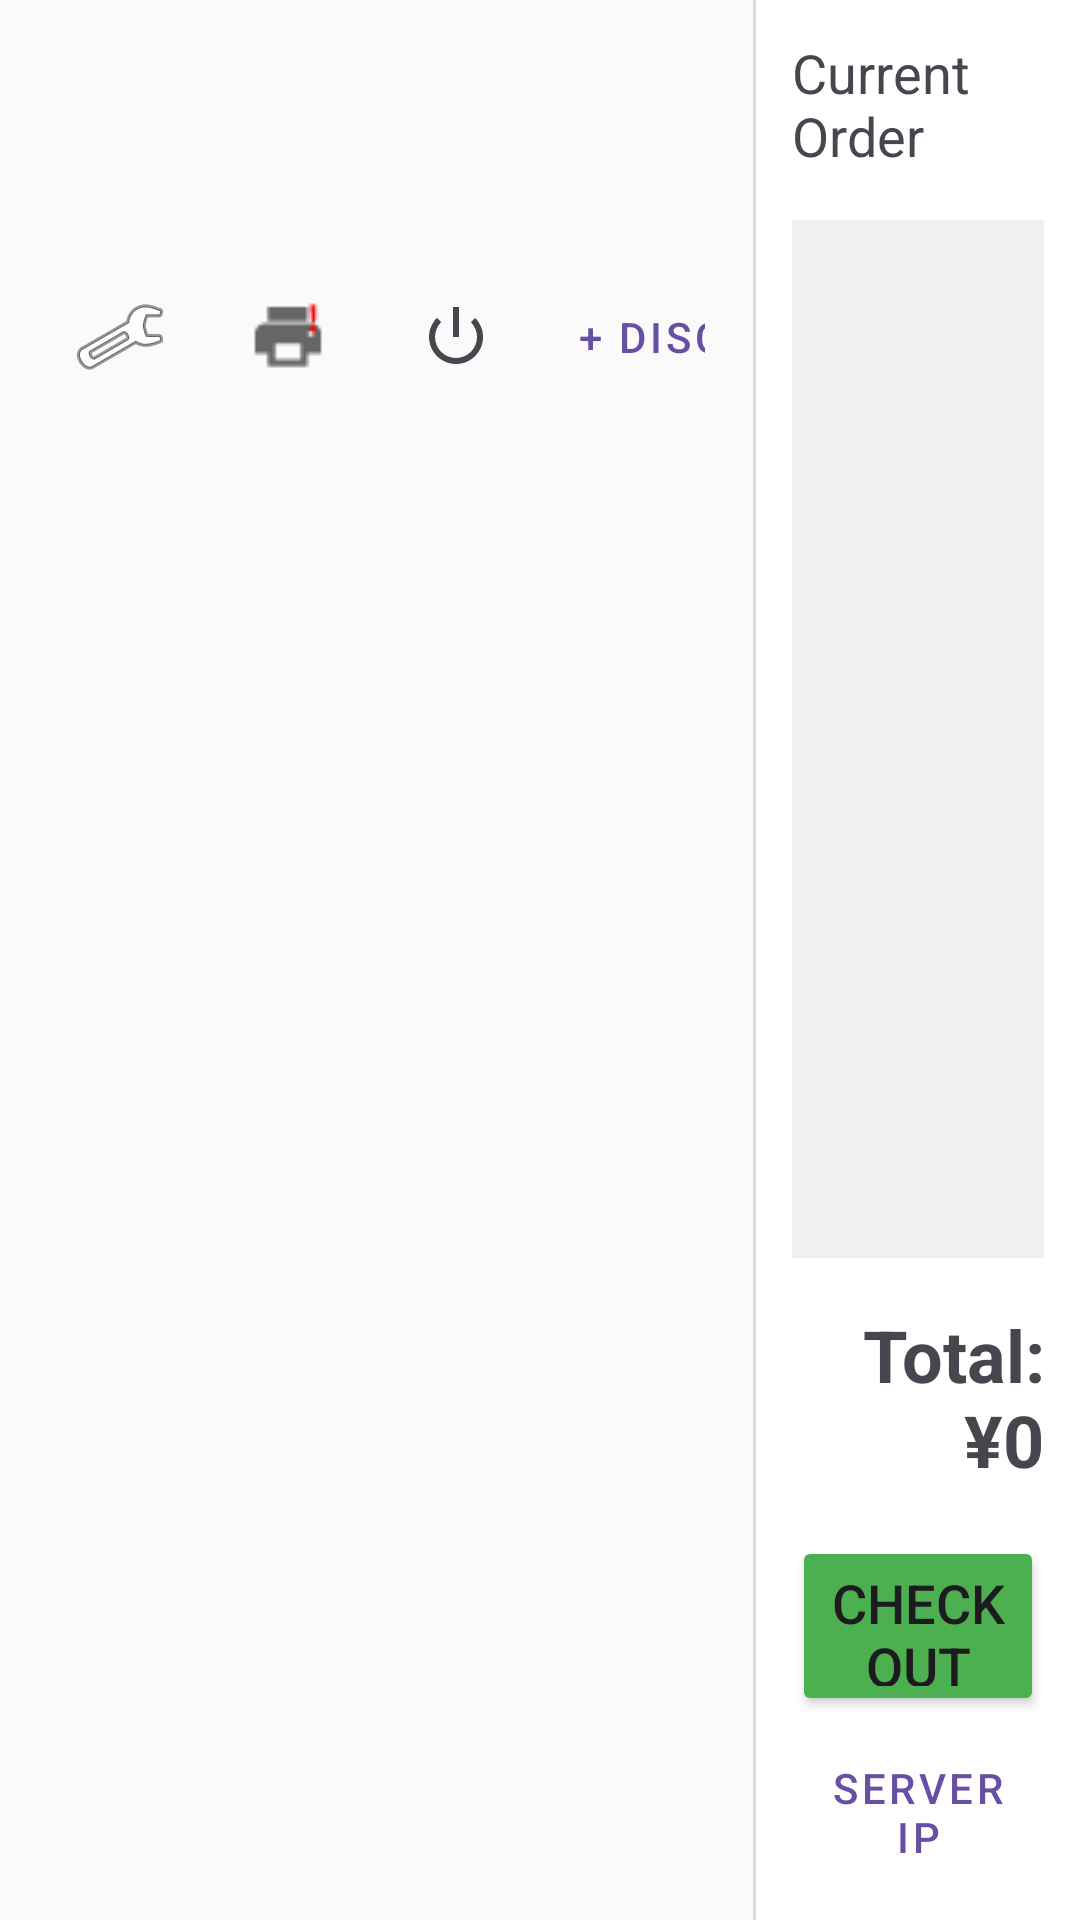

Where icons sit on this 1080×1920 app screen, as [x1=x1, y1=y1, x2=x2, y2=y2]:
Close Register: [x1=429, y1=307, x2=483, y2=364]
Printer Queue: [x1=254, y1=303, x2=322, y2=368]
Settings: [x1=77, y1=304, x2=163, y2=370]
